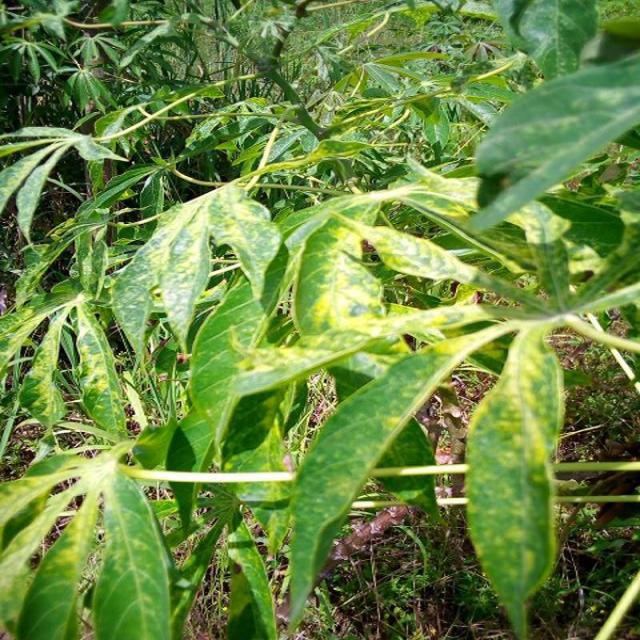cassava leaf: (463, 322, 566, 637), (468, 48, 638, 233)
